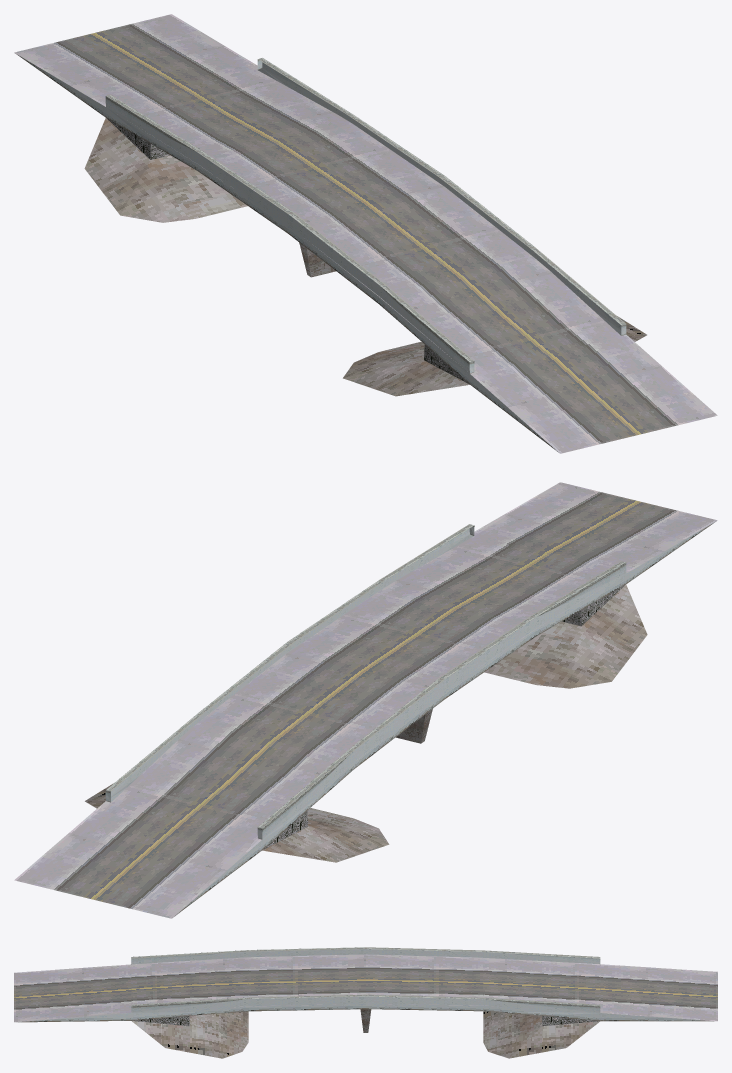
File: lodaseroad050.obj
The picture shows the model from 3 angles, top to bottom: view 1: azimuth 30°, elevation 25°; view 2: azimuth 150°, elevation 25°; view 3: azimuth 270°, elevation 25°; orthographic projection. The views are drawn at different scales.
Visible parts, largest first — view 1: lodasEroad050; view 2: lodasEroad050; view 3: lodasEroad050.
Boxes of the visible parts, x1,y1,x2,y2 form: lodasEroad050: [14, 14, 717, 453]; lodasEroad050: [14, 482, 717, 918]; lodasEroad050: [14, 947, 717, 1058].
Bounding box in the file's own units: 34.13 × 8.65 × 120.
4 materials, 4 textured.
